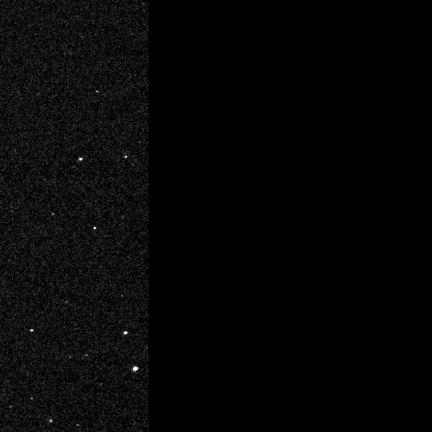blob: (133, 367, 139, 372), (30, 329, 34, 333), (49, 419, 53, 423), (96, 91, 100, 94), (94, 227, 97, 230), (31, 397, 34, 400), (125, 156, 128, 159), (124, 332, 127, 334), (52, 213, 54, 216), (79, 158, 82, 160)
